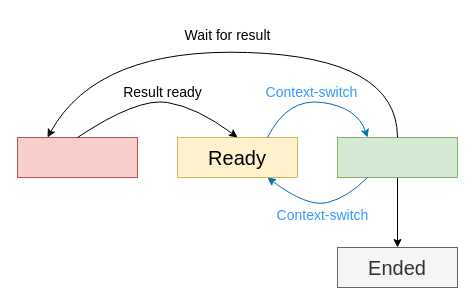
Some shapes in this 475 by 305 pixel diagram are drawn without their labels. The shapes that lost their labels are listed below. From the top down, each one's box as (x1, y1, x2, y2) in pixels, then its label:
(16, 136, 138, 178): Non-Ready
(336, 136, 458, 178): Running
